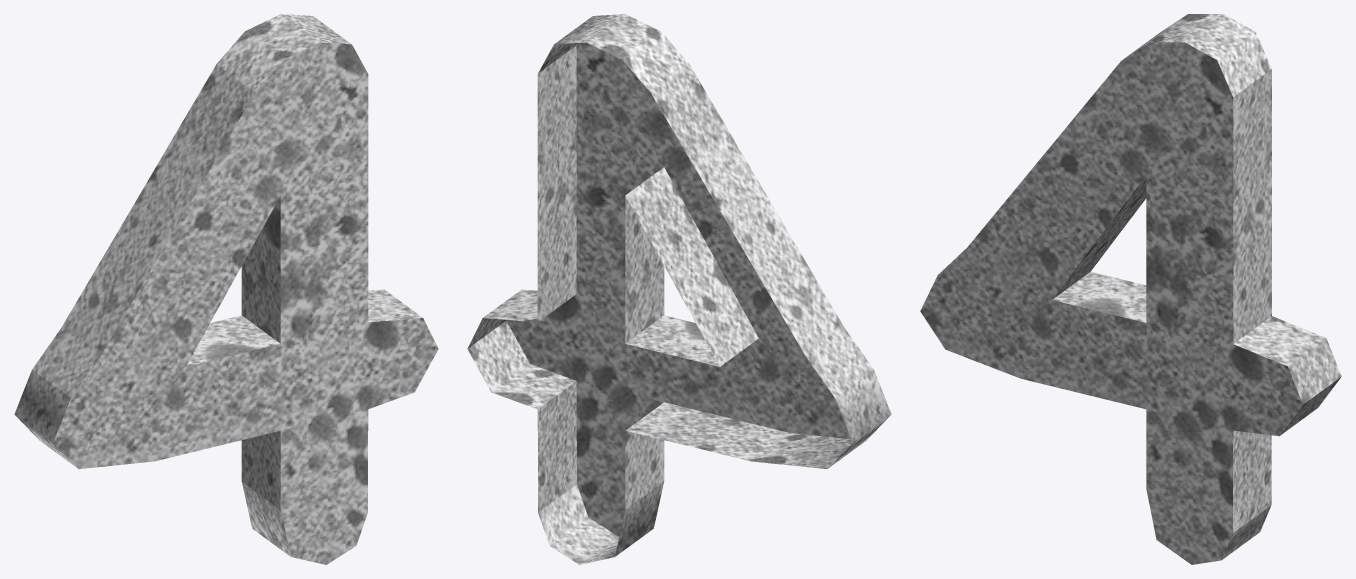
The model's file is Cuatro.FBX.
3 views of the same model, side by side, from view 1: azimuth 30°, elevation 25°; view 2: azimuth 150°, elevation 25°; view 3: azimuth 330°, elevation 25° (orthographic).
Visible parts, largest first — view 1: Cuatro; view 2: Cuatro; view 3: Cuatro.
Boxes of the visible parts, bbox=[...] form: Cuatro: bbox=[14, 14, 438, 564]; Cuatro: bbox=[467, 14, 891, 564]; Cuatro: bbox=[920, 14, 1341, 564].
Size of the model in its own units: 1.43 by 1.86 by 0.25.
